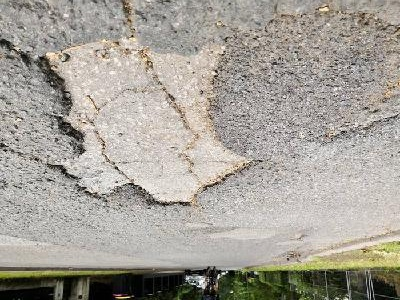pothole: (31, 37, 259, 210)
